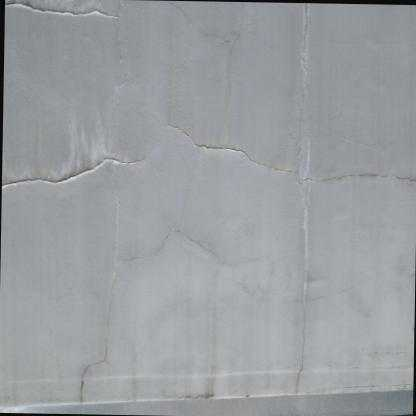crack: (170, 2, 416, 388), (0, 155, 131, 190), (3, 0, 116, 22)
